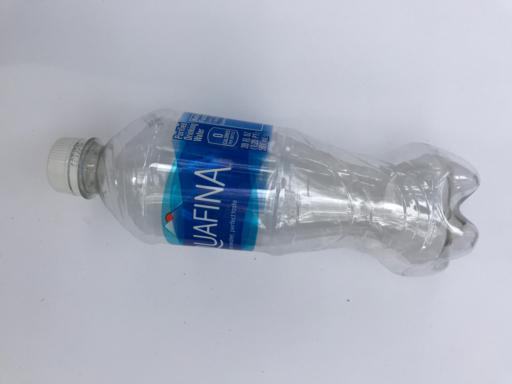PET: (46, 107, 480, 276)
aquafina: (46, 107, 480, 276)
plastic: (46, 107, 480, 276)
water: (46, 107, 480, 276)
